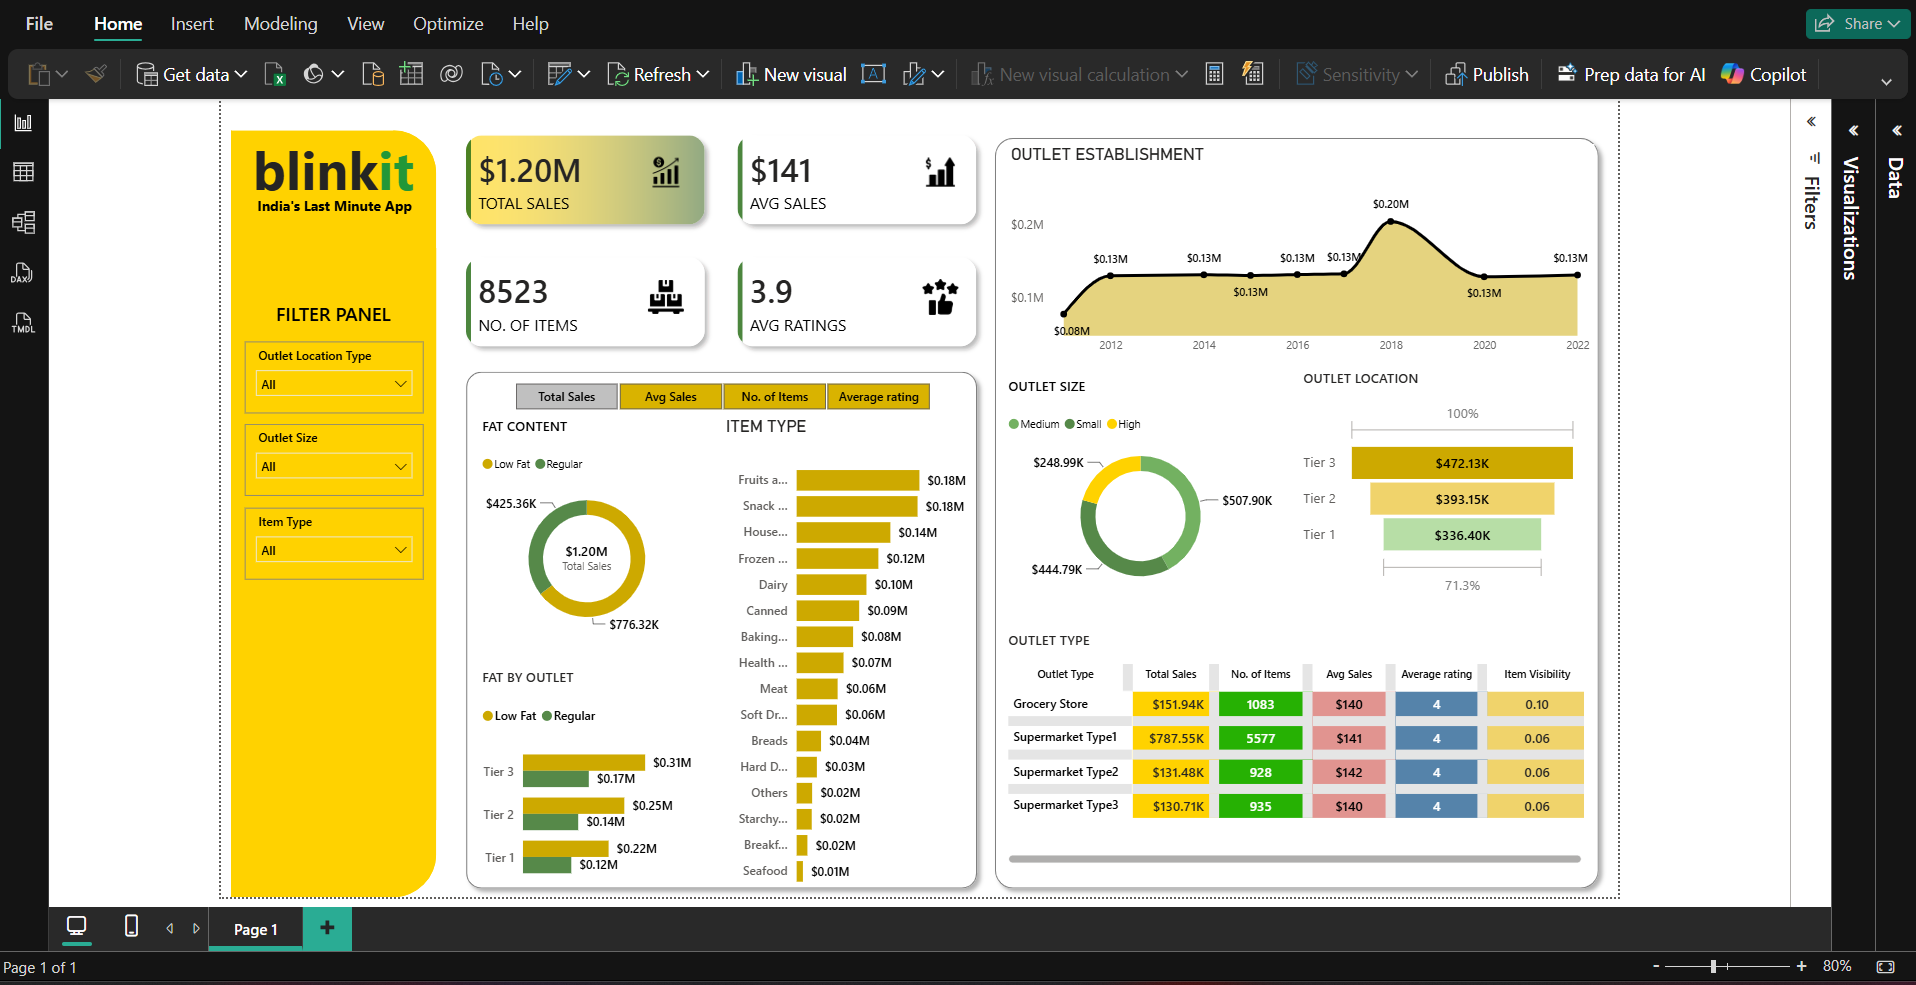

The page's visual inventory and layout, read from the dashboard file:
{"tool":"powerbi","page":{"name":"Page 1","canvas":[1400,800],"ordinal":0},"visuals":[{"type":"shape","box":[10.5,31.5,205.6,768.4],"z":0},{"type":"textbox","box":[10.5,28.5,205.6,90.1],"z":1000},{"type":"textbox","box":[31.5,93.1,165.1,49.5],"z":2000},{"type":"cardVisual","fields":{"Data":["BlinkIT Grocery Data.Total Sales","BlinkIT Grocery Data.Avg Sales","BlinkIT Grocery Data.No. of Items","BlinkIT Grocery Data.Average rating"]},"box":[216.1,7.5,570.3,270.2],"z":3000},{"type":"image","box":[424.7,57,42,31.5],"z":4000},{"type":"image","box":[699.4,57,43.5,31.5],"z":5000},{"type":"image","box":[424.7,180.1,42,36],"z":6000},{"type":"image","box":[699.4,180.1,43.5,36],"z":7000},{"type":"shape","box":[237.1,264.2,529.8,535.8],"z":8000},{"type":"donutChart","title":"FAT CONTENT","fields":{"Y":["BlinkIT Grocery Data.Total Sales"],"Category":["BlinkIT Grocery Data.Item Fat Content"]},"box":[256.6,318.2,220,230],"z":9000},{"type":"slicer","fields":{"Values":["Metrics.Metrics"]},"box":[268.7,277.7,465,40],"z":10000},{"type":"cardVisual","fields":{"Data":["BlinkIT Grocery Data.Total Sales"]},"box":[312.2,415.7,109.6,85.5],"z":11000},{"type":"clusteredBarChart","title":"FAT BY OUTLET","fields":{"Y":["BlinkIT Grocery Data.Total Sales"],"Category":["BlinkIT Grocery Data.Outlet Location Type"],"Series":["BlinkIT Grocery Data.Item Fat Content"]},"box":[256.6,570.3,220,230],"z":12000},{"type":"shape","box":[256.6,529.8,210.1,36],"z":13000},{"type":"shape","box":[924.5,216.1,12,442.8],"z":14000},{"type":"barChart","title":"ITEM TYPE","fields":{"Y":["BlinkIT Grocery Data.Total Sales"],"Category":["BlinkIT Grocery Data.Item Type"]},"box":[501.3,318.2,250.6,481.8],"z":15000},{"type":"shape","box":[766.9,30,622.9,769.9],"z":16000},{"type":"lineChart","title":"OUTLET ESTABLISHMENT","fields":{"Y":["BlinkIT Grocery Data.Total Sales"],"Category":["BlinkIT Grocery Data.Outlet Establishment Year"]},"box":[786.5,45,589.8,219.1],"z":17000},{"type":"shape","box":[477.3,318.2,12,469.8],"z":18000},{"type":"shape","box":[783.5,258.1,589.8,19.5],"z":19000},{"type":"donutChart","title":"OUTLET SIZE","fields":{"Y":["BlinkIT Grocery Data.Total Sales"],"Category":["BlinkIT Grocery Data.Outlet Size"]},"box":[783.5,277.7,275,225],"z":20000},{"type":"shape","box":[1058.1,277.7,12,223.6],"z":21000},{"type":"funnel","title":"OUTLET LOCATION","fields":{"Y":["BlinkIT Grocery Data.Total Sales"],"Category":["BlinkIT Grocery Data.Outlet Location Type"]},"box":[1079.1,270.2,285.2,231.1],"z":22000},{"type":"shape","box":[783.5,502.8,589.8,19.5],"z":23000},{"type":"pivotTable","title":"OUTLET TYPE","fields":{"Rows":["BlinkIT Grocery Data.Outlet Type"],"Values":["BlinkIT Grocery Data.Total Sales","BlinkIT Grocery Data.No. of Items","BlinkIT Grocery Data.Avg Sales","BlinkIT Grocery Data.Average rating","Avg(BlinkIT Grocery Data.Item Visibility)"]},"box":[783.5,532.8,586.8,238.6],"z":24000},{"type":"slicer","fields":{"Values":["BlinkIT Grocery Data.Outlet Location Type"]},"box":[23.7,243.1,178.9,72],"z":25000},{"type":"slicer","fields":{"Values":["BlinkIT Grocery Data.Outlet Size"]},"box":[23.4,325.7,178.9,72],"z":26000},{"type":"slicer","fields":{"Values":["BlinkIT Grocery Data.Item Type"]},"box":[23.4,409.4,178.9,72],"z":27000},{"type":"textbox","box":[49.5,198.1,132.7,40.5],"z":28000}]}

Visuals, with their boxes on the page's 1400x800 design canvas (x1, y1, x2, y2). These are canvas units, not pixel positions in the 1916x985 screenshot, which may show the page scaled, cropped or inside an application window:
shape: bbox=[10, 32, 216, 800]
textbox: bbox=[10, 28, 216, 119]
textbox: bbox=[32, 93, 197, 143]
cardVisual - BlinkIT Grocery Data.Total Sales x BlinkIT Grocery Data.Avg Sales: bbox=[216, 8, 786, 278]
image: bbox=[425, 57, 467, 88]
image: bbox=[699, 57, 743, 88]
image: bbox=[425, 180, 467, 216]
image: bbox=[699, 180, 743, 216]
shape: bbox=[237, 264, 767, 800]
"FAT CONTENT" donutChart: bbox=[257, 318, 477, 548]
slicer - Metrics.Metrics: bbox=[269, 278, 734, 318]
cardVisual - BlinkIT Grocery Data.Total Sales: bbox=[312, 416, 422, 501]
"FAT BY OUTLET" clusteredBarChart: bbox=[257, 570, 477, 800]
shape: bbox=[257, 530, 467, 566]
shape: bbox=[924, 216, 936, 659]
"ITEM TYPE" barChart: bbox=[501, 318, 752, 800]
shape: bbox=[767, 30, 1390, 800]
"OUTLET ESTABLISHMENT" lineChart: bbox=[786, 45, 1376, 264]
shape: bbox=[477, 318, 489, 788]
shape: bbox=[784, 258, 1373, 278]
"OUTLET SIZE" donutChart: bbox=[784, 278, 1058, 503]
shape: bbox=[1058, 278, 1070, 501]
"OUTLET LOCATION" funnel: bbox=[1079, 270, 1364, 501]
shape: bbox=[784, 503, 1373, 522]
"OUTLET TYPE" pivotTable: bbox=[784, 533, 1370, 771]
slicer - BlinkIT Grocery Data.Outlet Location Type: bbox=[24, 243, 203, 315]
slicer - BlinkIT Grocery Data.Outlet Size: bbox=[23, 326, 202, 398]
slicer - BlinkIT Grocery Data.Item Type: bbox=[23, 409, 202, 481]
textbox: bbox=[50, 198, 182, 239]
